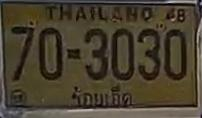0: (38, 26, 62, 80), (111, 28, 134, 80), (164, 28, 186, 80)
3: (84, 28, 107, 80), (137, 28, 160, 80)
7: (11, 26, 34, 80)
RET: (67, 82, 137, 111)
